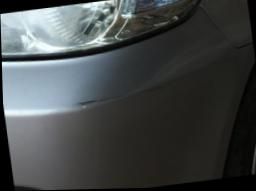Bumper: (71, 59, 222, 118)
